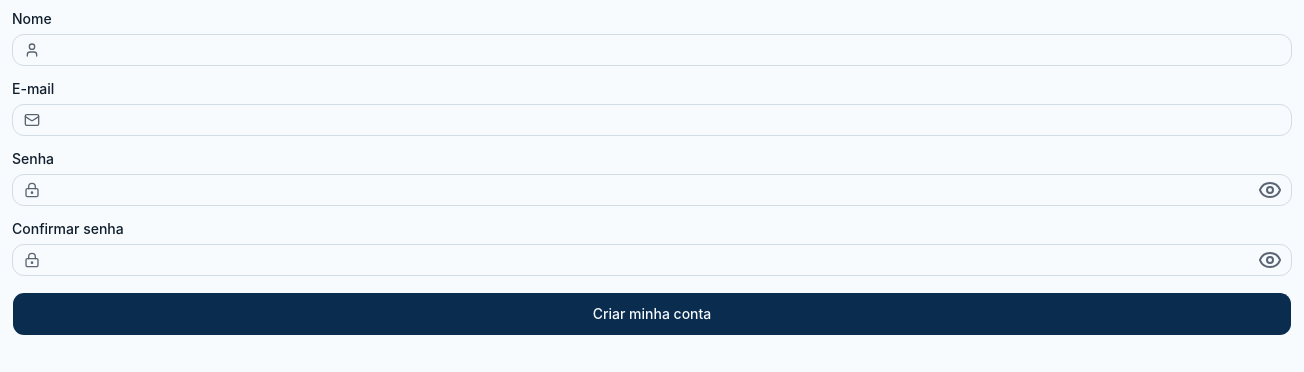
Test: associa erro de campo retornado pelo backend no cadastro
Type "Ana Silva" into the field labelled "Nome" at (652, 50), box [12,34,1292,66]
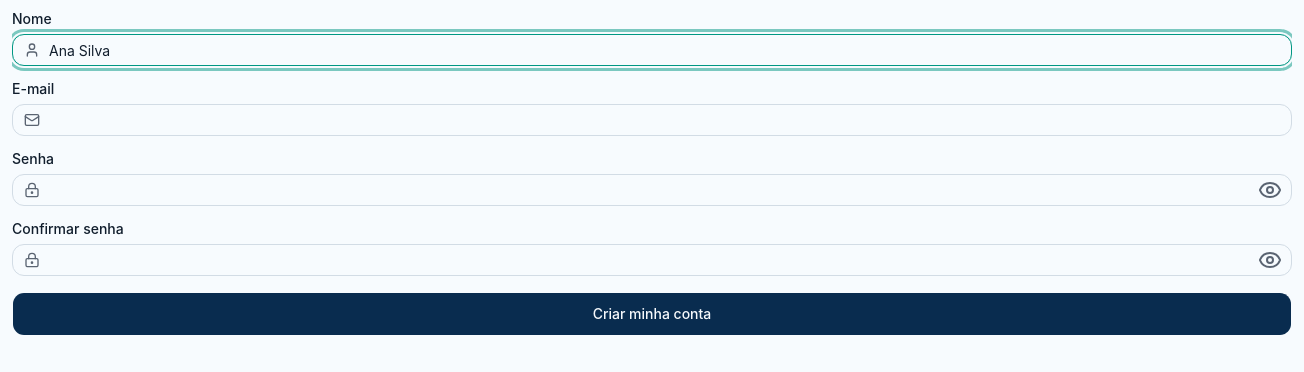
Type "ana@example.com" into the field labelled "E-mail" at (652, 120), box [12,104,1292,136]
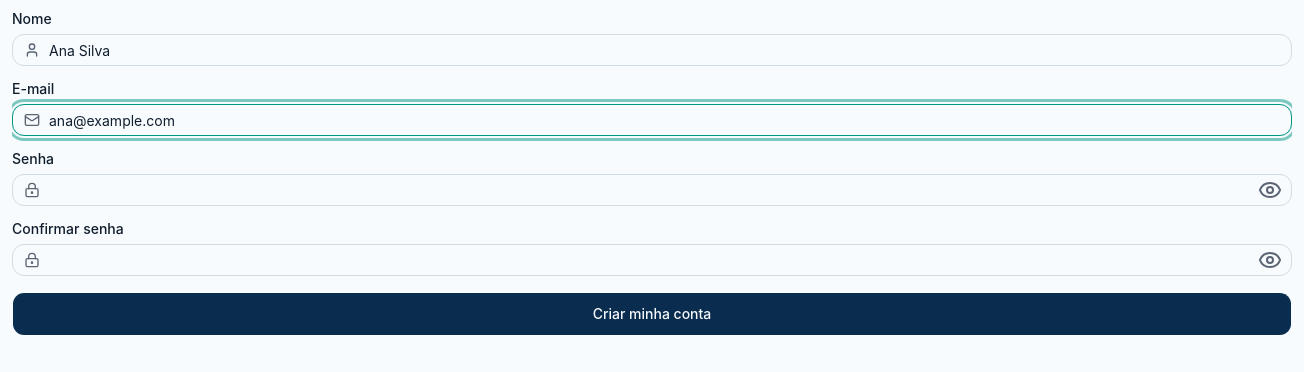
Type "Password123" into the password field labelled "Senha" at (652, 190), box [12,174,1292,206]
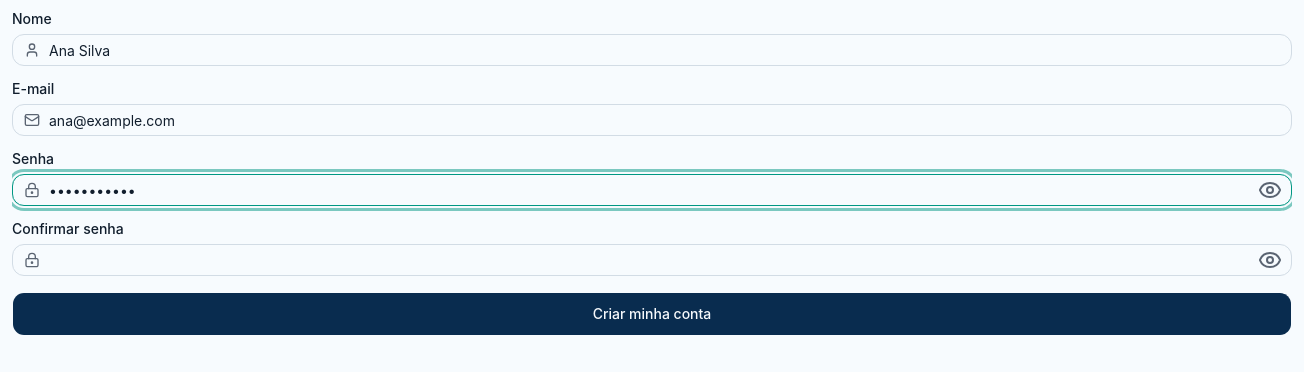
Type "Password123" into the password field labelled "Confirmar senha" at (652, 260), box [12,244,1292,276]
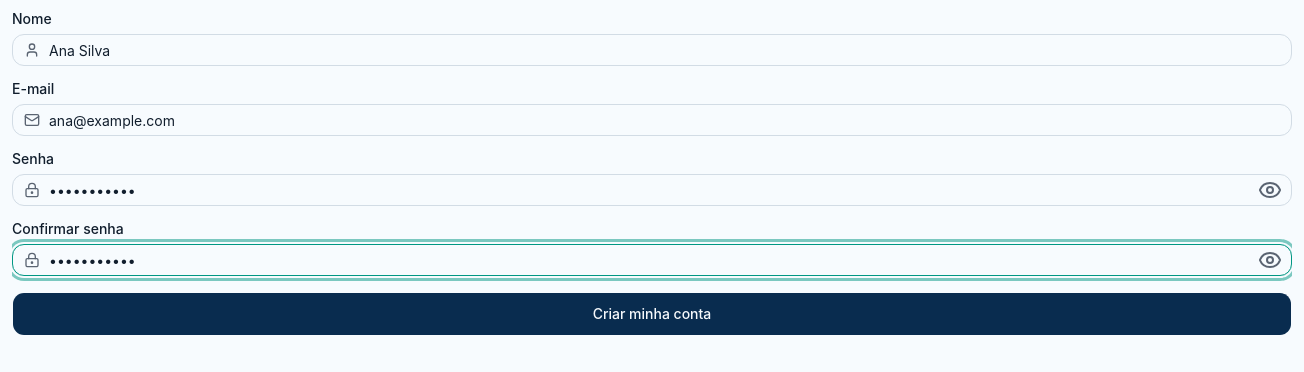
Click the button "Criar minha conta" at (652, 314), box [12,292,1292,336]
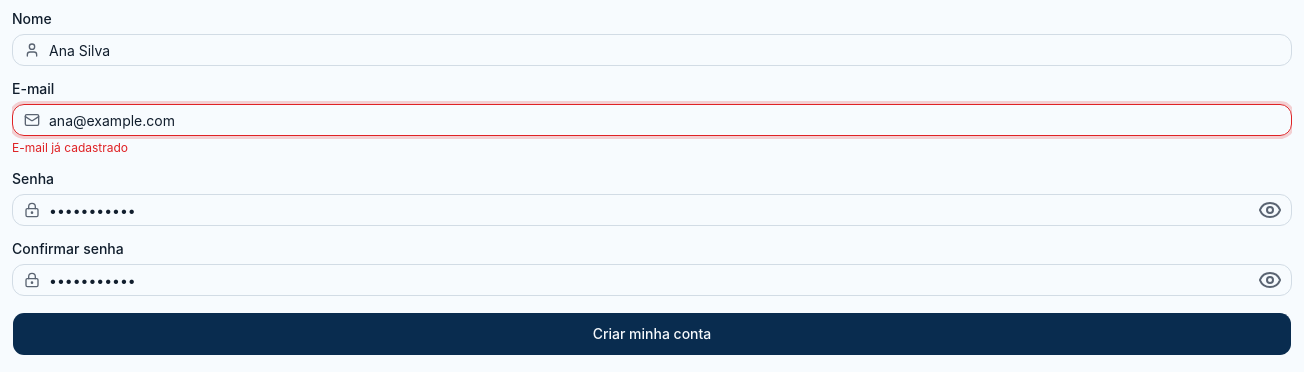
Expected: the text "E-mail já cadastrado" is shown, [12,140,128,155]
